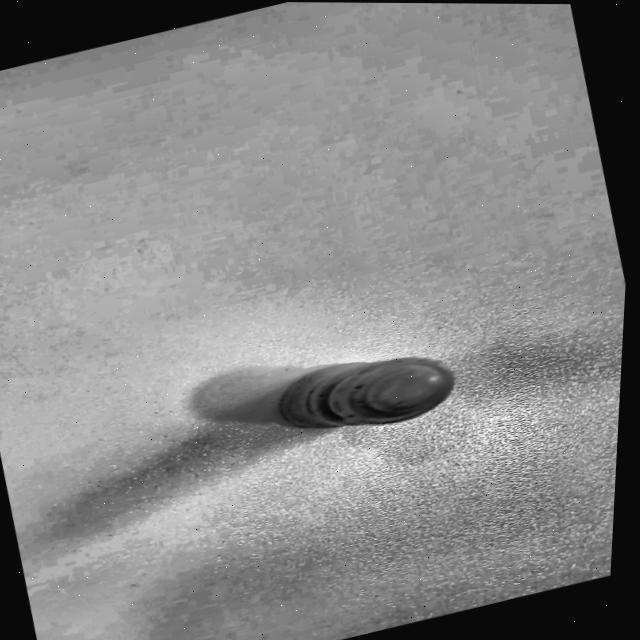white-queen: (254, 306, 500, 462)
